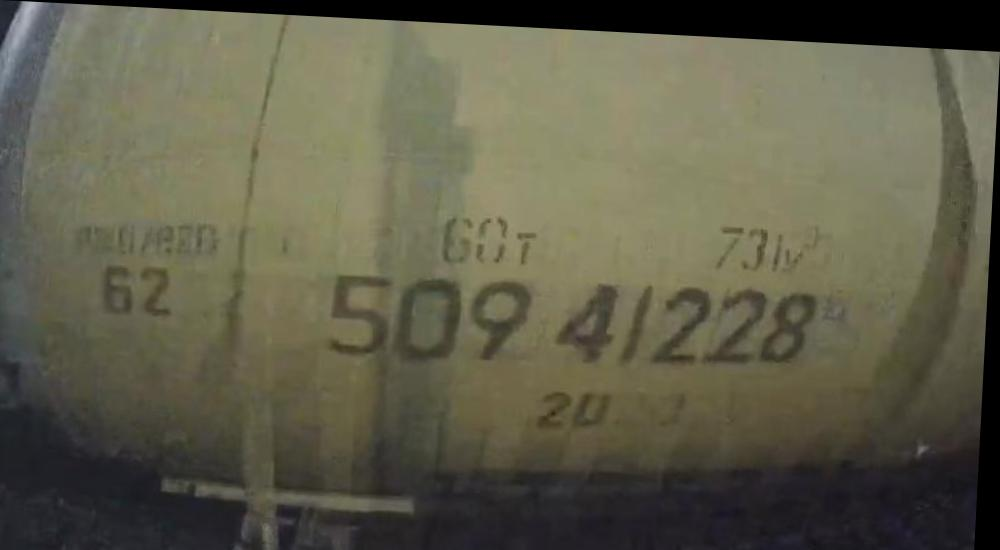Wagon-number: (324, 259, 826, 376)
